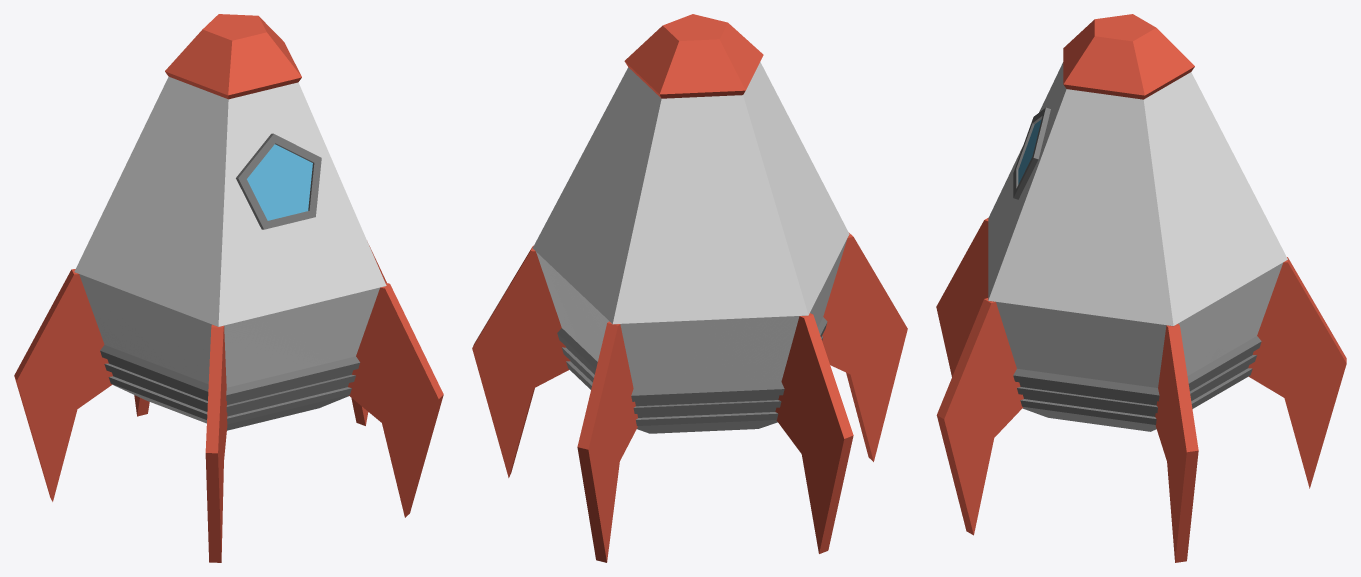
Rendered from rocket.glb.
The picture shows the model from 3 angles, left to right: view 1: azimuth 30°, elevation 25°; view 2: azimuth 150°, elevation 25°; view 3: azimuth 270°, elevation 25°; orthographic projection.
Visible parts, largest first — view 1: Mesh_2.001, Mesh_3.001, Body, Mesh_4.001, Gray, Mesh_0.001, Red; view 2: Mesh_2.001, Mesh_3.001, Red, Body, Gray, Mesh_4.001; view 3: Mesh_2.001, Mesh_3.001, Red, Mesh_4.001, Gray, Body.
Part boxes in pixels (x1,y1,x2,y2): Mesh_2.001: (74, 76, 386, 387); Mesh_3.001: (17, 14, 443, 562); Body: (80, 274, 381, 383); Mesh_4.001: (100, 133, 359, 430); Gray: (105, 133, 355, 423); Mesh_0.001: (247, 144, 312, 220); Red: (14, 266, 414, 549); Mesh_2.001: (532, 62, 849, 387); Mesh_3.001: (472, 14, 907, 561); Red: (472, 237, 903, 562); Body: (536, 236, 848, 388); Gray: (557, 321, 823, 433); Mesh_4.001: (559, 317, 827, 430); Mesh_2.001: (988, 62, 1287, 387); Mesh_3.001: (936, 14, 1345, 562); Red: (937, 220, 1346, 562); Mesh_4.001: (1013, 107, 1261, 431); Gray: (1013, 108, 1260, 431); Body: (996, 303, 1237, 387).
Bounding box in the file's own units: 3.46 × 4.04 × 3.28.
